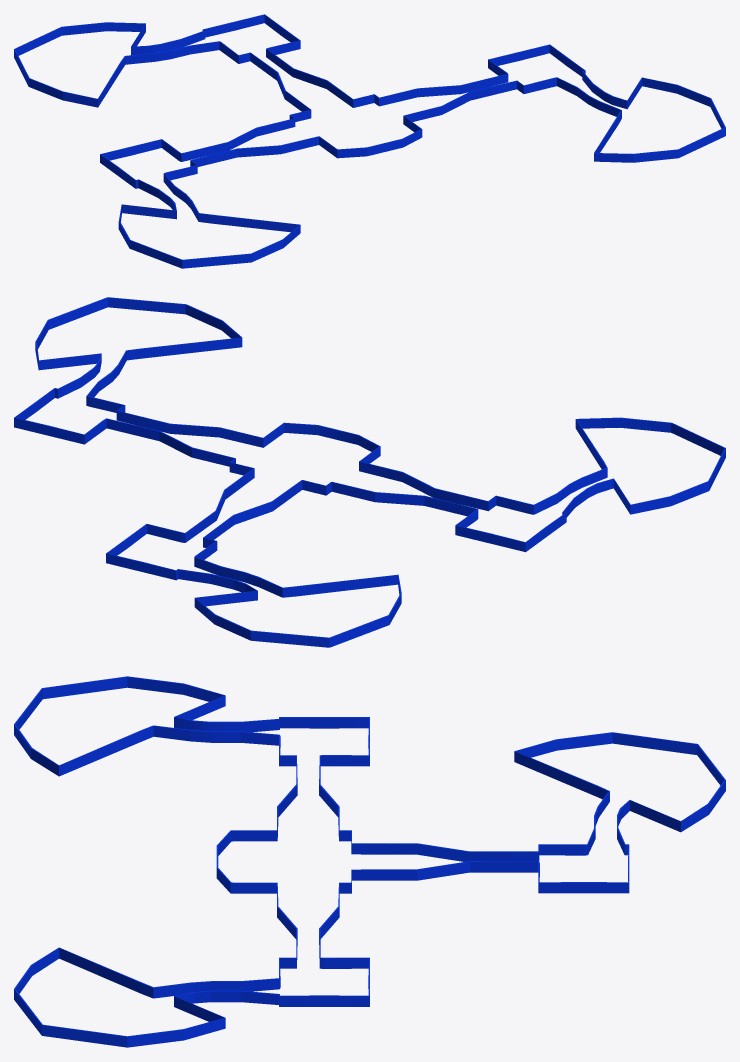
The model's file is AST_walls_boundingBox.fbx.
3 views of the same model, one above another, from view 1: azimuth 30°, elevation 25°; view 2: azimuth 150°, elevation 25°; view 3: azimuth 270°, elevation 25° (orthographic). The views are drawn at different scales.
Parts seen in each view (by area): view 1: MSH_walls_boundingBox; view 2: MSH_walls_boundingBox; view 3: MSH_walls_boundingBox.
Boxes of the visible parts, x1,y1,x2,y2 form: MSH_walls_boundingBox: (14,14,725,268); MSH_walls_boundingBox: (14,297,725,647); MSH_walls_boundingBox: (14,676,725,1047).
Bounding box in the file's own units: 6687 × 93.36 × 5581.
